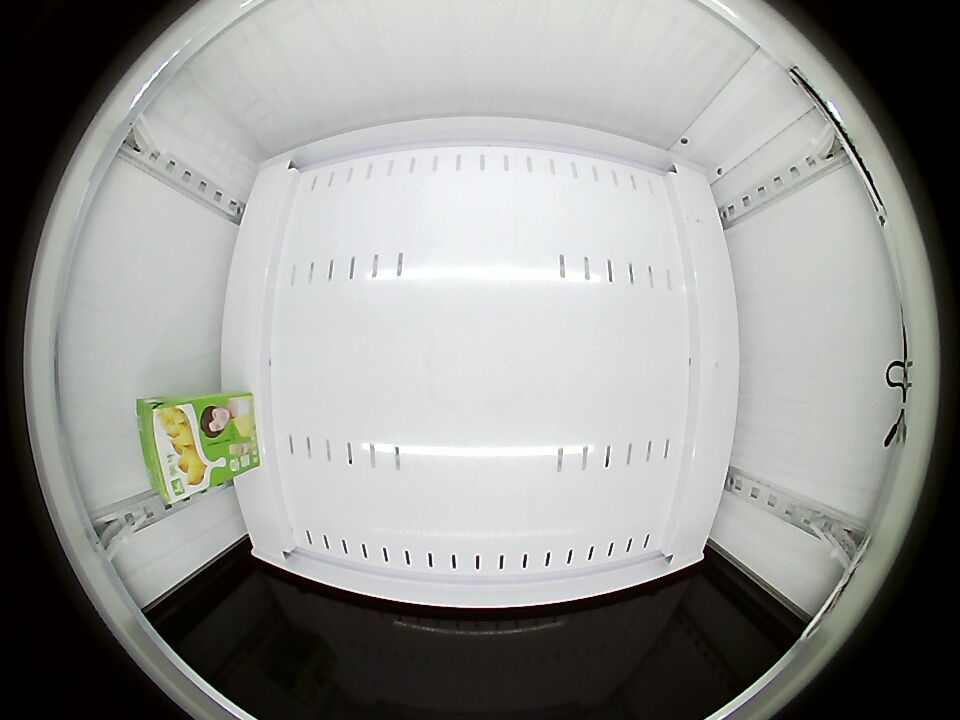mengniuzaocan: (138, 396, 217, 505)
